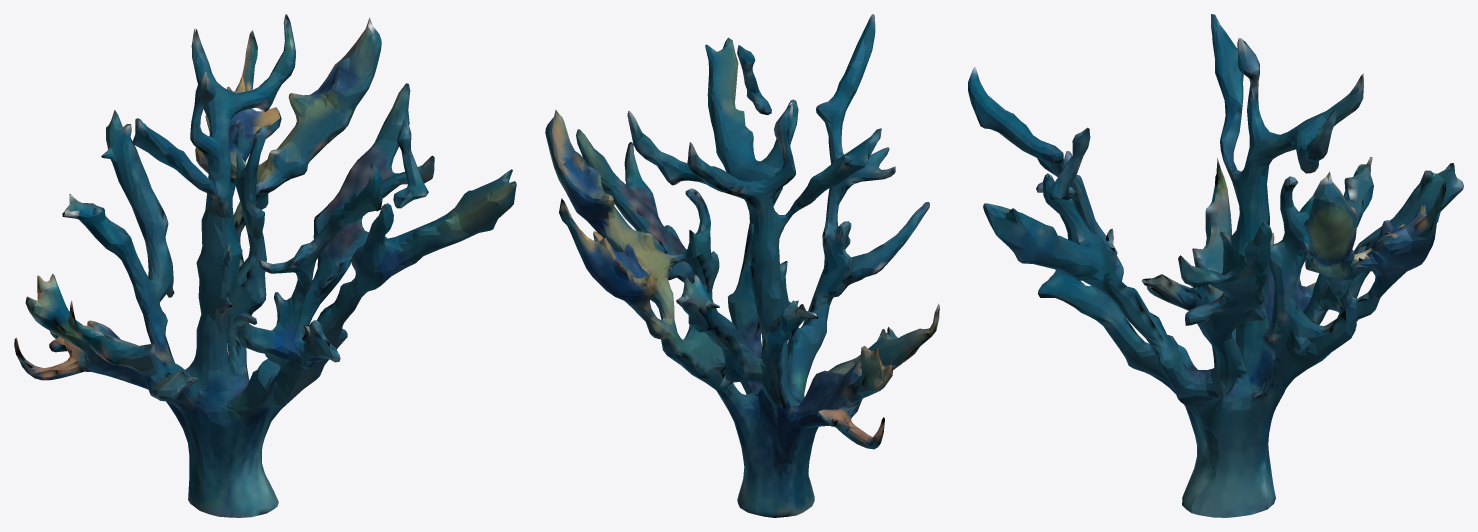
Rendered from Plant15.glb.
3 views of the same model, side by side, from view 1: azimuth 30°, elevation 25°; view 2: azimuth 150°, elevation 25°; view 3: azimuth 270°, elevation 25° (orthographic). The views are drawn at different scales.
Visible parts, largest first — view 1: model.003_LOD0; view 2: model.003_LOD0; view 3: model.003_LOD0.
Boxes of the visible parts, box(x1,y1,x2,y2) form: model.003_LOD0: box(14, 14, 516, 517); model.003_LOD0: box(545, 14, 939, 517); model.003_LOD0: box(968, 14, 1463, 517).
Size of what is drawn, in the model's own units: 0.4179 by 0.4714 by 0.4705.
1 material, 1 textured.
